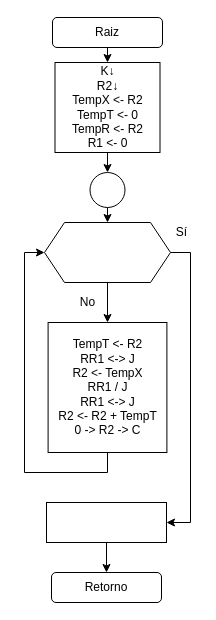
Image size: 216x620. Some labels were removed from this diagram. Here are the shapes that lost their labels. From the top down, the centre of each, then its label:
(x=107, y=252): R2 = TempT
(x=106, y=522): ↑R2 ↑K
